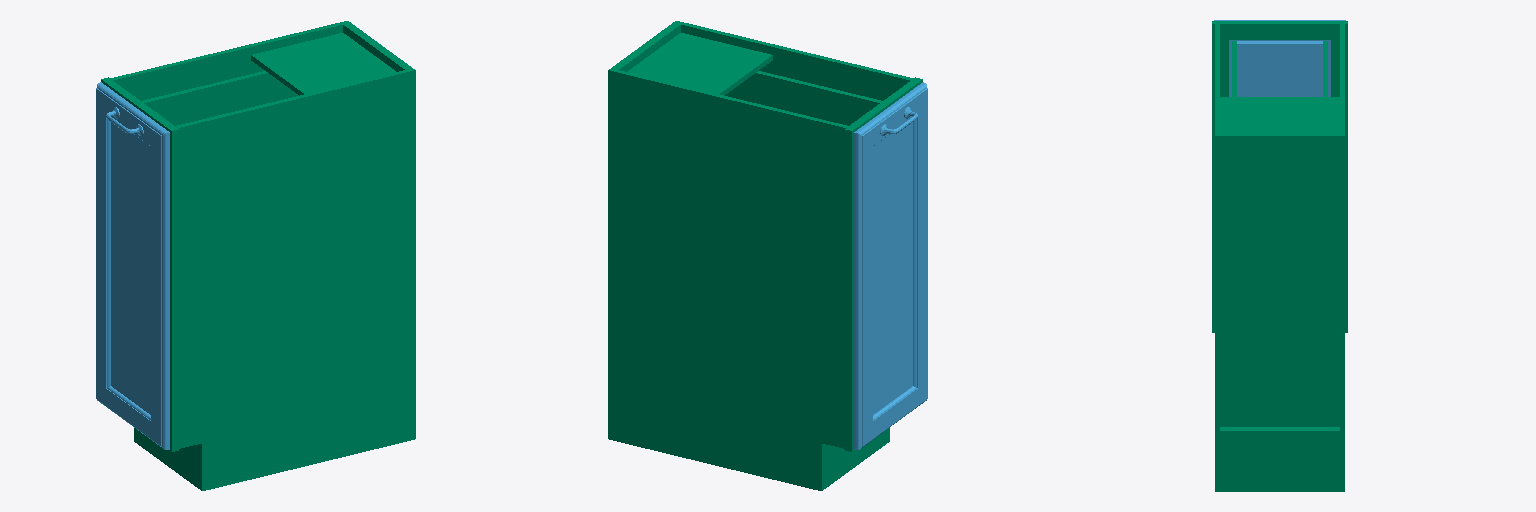
URDF robot description (partnet_198cbe57b01bad9dc59350d819542ec7):
<?xml version="1.0" ?>
<robot name="partnet_198cbe57b01bad9dc59350d819542ec7">
	<link name="base"/>
	<link name="link_0">
		<visual name="cabinet_door_surface-5">
			<origin xyz="0.2662146266598937 0.6346279978752136 -0.566615870134326"/>
			<geometry>
				<mesh filename="textured_objs/original-43.obj"/>
			</geometry>
		</visual>
		<visual name="cabinet_door_surface-5">
			<origin xyz="0.2662146266598937 0.6346279978752136 -0.566615870134326"/>
			<geometry>
				<mesh filename="textured_objs/original-52.obj"/>
			</geometry>
		</visual>
		<visual name="cabinet_door_surface-5">
			<origin xyz="0.2662146266598937 0.6346279978752136 -0.566615870134326"/>
			<geometry>
				<mesh filename="textured_objs/original-49.obj"/>
			</geometry>
		</visual>
		<visual name="cabinet_door_surface-5">
			<origin xyz="0.2662146266598937 0.6346279978752136 -0.566615870134326"/>
			<geometry>
				<mesh filename="textured_objs/original-42.obj"/>
			</geometry>
		</visual>
		<visual name="cabinet_door_surface-5">
			<origin xyz="0.2662146266598937 0.6346279978752136 -0.566615870134326"/>
			<geometry>
				<mesh filename="textured_objs/original-50.obj"/>
			</geometry>
		</visual>
		<visual name="cabinet_door_surface-5">
			<origin xyz="0.2662146266598937 0.6346279978752136 -0.566615870134326"/>
			<geometry>
				<mesh filename="textured_objs/original-45.obj"/>
			</geometry>
		</visual>
		<visual name="cabinet_door_surface-5">
			<origin xyz="0.2662146266598937 0.6346279978752136 -0.566615870134326"/>
			<geometry>
				<mesh filename="textured_objs/original-44.obj"/>
			</geometry>
		</visual>
		<visual name="cabinet_door_surface-5">
			<origin xyz="0.2662146266598937 0.6346279978752136 -0.566615870134326"/>
			<geometry>
				<mesh filename="textured_objs/original-48.obj"/>
			</geometry>
		</visual>
		<visual name="cabinet_door_surface-5">
			<origin xyz="0.2662146266598937 0.6346279978752136 -0.566615870134326"/>
			<geometry>
				<mesh filename="textured_objs/original-29.obj"/>
			</geometry>
		</visual>
		<visual name="cabinet_door_surface-5">
			<origin xyz="0.2662146266598937 0.6346279978752136 -0.566615870134326"/>
			<geometry>
				<mesh filename="textured_objs/original-47.obj"/>
			</geometry>
		</visual>
		<visual name="cabinet_door_surface-5">
			<origin xyz="0.2662146266598937 0.6346279978752136 -0.566615870134326"/>
			<geometry>
				<mesh filename="textured_objs/original-51.obj"/>
			</geometry>
		</visual>
		<visual name="handle-6">
			<origin xyz="0.2662146266598937 0.6346279978752136 -0.566615870134326"/>
			<geometry>
				<mesh filename="textured_objs/original-53.obj"/>
			</geometry>
		</visual>
		<collision>
			<origin xyz="0.2662146266598937 0.6346279978752136 -0.566615870134326"/>
			<geometry>
				<mesh filename="textured_objs/original-43.obj"/>
			</geometry>
		</collision>
		<collision>
			<origin xyz="0.2662146266598937 0.6346279978752136 -0.566615870134326"/>
			<geometry>
				<mesh filename="textured_objs/original-52.obj"/>
			</geometry>
		</collision>
		<collision>
			<origin xyz="0.2662146266598937 0.6346279978752136 -0.566615870134326"/>
			<geometry>
				<mesh filename="textured_objs/original-49.obj"/>
			</geometry>
		</collision>
		<collision>
			<origin xyz="0.2662146266598937 0.6346279978752136 -0.566615870134326"/>
			<geometry>
				<mesh filename="textured_objs/original-42.obj"/>
			</geometry>
		</collision>
		<collision>
			<origin xyz="0.2662146266598937 0.6346279978752136 -0.566615870134326"/>
			<geometry>
				<mesh filename="textured_objs/original-50.obj"/>
			</geometry>
		</collision>
		<collision>
			<origin xyz="0.2662146266598937 0.6346279978752136 -0.566615870134326"/>
			<geometry>
				<mesh filename="textured_objs/original-45.obj"/>
			</geometry>
		</collision>
		<collision>
			<origin xyz="0.2662146266598937 0.6346279978752136 -0.566615870134326"/>
			<geometry>
				<mesh filename="textured_objs/original-44.obj"/>
			</geometry>
		</collision>
		<collision>
			<origin xyz="0.2662146266598937 0.6346279978752136 -0.566615870134326"/>
			<geometry>
				<mesh filename="textured_objs/original-48.obj"/>
			</geometry>
		</collision>
		<collision>
			<origin xyz="0.2662146266598937 0.6346279978752136 -0.566615870134326"/>
			<geometry>
				<mesh filename="textured_objs/original-29.obj"/>
			</geometry>
		</collision>
		<collision>
			<origin xyz="0.2662146266598937 0.6346279978752136 -0.566615870134326"/>
			<geometry>
				<mesh filename="textured_objs/original-47.obj"/>
			</geometry>
		</collision>
		<collision>
			<origin xyz="0.2662146266598937 0.6346279978752136 -0.566615870134326"/>
			<geometry>
				<mesh filename="textured_objs/original-51.obj"/>
			</geometry>
		</collision>
		<collision>
			<origin xyz="0.2662146266598937 0.6346279978752136 -0.566615870134326"/>
			<geometry>
				<mesh filename="textured_objs/original-53.obj"/>
			</geometry>
		</collision>
	</link>
	<joint name="joint_0" type="revolute">
		<origin xyz="-0.2662146266598937 -0.6346279978752136 0.566615870134326"/>
		<axis xyz="0 -1 0"/>
		<child link="link_0"/>
		<parent link="link_1"/>
		<limit lower="0.0" upper="1.5707963267948966"/>
	</joint>
	<link name="link_1">
		<visual name="shelf-13">
			<origin xyz="0 0 0"/>
			<geometry>
				<mesh filename="textured_objs/original-23.obj"/>
			</geometry>
		</visual>
		<visual name="shelf-14">
			<origin xyz="0 0 0"/>
			<geometry>
				<mesh filename="textured_objs/original-38.obj"/>
			</geometry>
		</visual>
		<visual name="shelf-15">
			<origin xyz="0 0 0"/>
			<geometry>
				<mesh filename="textured_objs/original-34.obj"/>
			</geometry>
		</visual>
		<visual name="base_side_panel-8">
			<origin xyz="0 0 0"/>
			<geometry>
				<mesh filename="textured_objs/original-16.obj"/>
			</geometry>
		</visual>
		<visual name="base_side_panel-9">
			<origin xyz="0 0 0"/>
			<geometry>
				<mesh filename="textured_objs/original-17.obj"/>
			</geometry>
		</visual>
		<visual name="base_side_panel-10">
			<origin xyz="0 0 0"/>
			<geometry>
				<mesh filename="textured_objs/original-12.obj"/>
			</geometry>
		</visual>
		<visual name="base_side_panel-11">
			<origin xyz="0 0 0"/>
			<geometry>
				<mesh filename="textured_objs/original-18.obj"/>
			</geometry>
		</visual>
		<visual name="back_panel-20">
			<origin xyz="0 0 0"/>
			<geometry>
				<mesh filename="textured_objs/original-30.obj"/>
			</geometry>
		</visual>
		<visual name="back_panel-20">
			<origin xyz="0 0 0"/>
			<geometry>
				<mesh filename="textured_objs/original-5.obj"/>
			</geometry>
		</visual>
		<visual name="bottom_panel-21">
			<origin xyz="0 0 0"/>
			<geometry>
				<mesh filename="textured_objs/original-2.obj"/>
			</geometry>
		</visual>
		<visual name="vertical_side_panel-22">
			<origin xyz="0 0 0"/>
			<geometry>
				<mesh filename="textured_objs/original-11.obj"/>
			</geometry>
		</visual>
		<visual name="vertical_side_panel-22">
			<origin xyz="0 0 0"/>
			<geometry>
				<mesh filename="textured_objs/original-10.obj"/>
			</geometry>
		</visual>
		<visual name="vertical_side_panel-23">
			<origin xyz="0 0 0"/>
			<geometry>
				<mesh filename="textured_objs/original-15.obj"/>
			</geometry>
		</visual>
		<visual name="vertical_side_panel-23">
			<origin xyz="0 0 0"/>
			<geometry>
				<mesh filename="textured_objs/original-14.obj"/>
			</geometry>
		</visual>
		<visual name="other_leaf-25">
			<origin xyz="0 0 0"/>
			<geometry>
				<mesh filename="textured_objs/original-54.obj"/>
			</geometry>
		</visual>
		<visual name="frame_horizontal_bar-26">
			<origin xyz="0 0 0"/>
			<geometry>
				<mesh filename="textured_objs/original-28.obj"/>
			</geometry>
		</visual>
		<visual name="frame_horizontal_bar-27">
			<origin xyz="0 0 0"/>
			<geometry>
				<mesh filename="textured_objs/original-32.obj"/>
			</geometry>
		</visual>
		<visual name="frame_horizontal_bar-28">
			<origin xyz="0 0 0"/>
			<geometry>
				<mesh filename="textured_objs/original-36.obj"/>
			</geometry>
		</visual>
		<visual name="frame_horizontal_bar-29">
			<origin xyz="0 0 0"/>
			<geometry>
				<mesh filename="textured_objs/original-22.obj"/>
			</geometry>
		</visual>
		<visual name="frame_horizontal_bar-30">
			<origin xyz="0 0 0"/>
			<geometry>
				<mesh filename="textured_objs/original-40.obj"/>
			</geometry>
		</visual>
		<visual name="frame_horizontal_bar-31">
			<origin xyz="0 0 0"/>
			<geometry>
				<mesh filename="textured_objs/original-37.obj"/>
			</geometry>
		</visual>
		<visual name="frame_horizontal_bar-32">
			<origin xyz="0 0 0"/>
			<geometry>
				<mesh filename="textured_objs/original-33.obj"/>
			</geometry>
		</visual>
		<visual name="frame_horizontal_bar-33">
			<origin xyz="0 0 0"/>
			<geometry>
				<mesh filename="textured_objs/original-39.obj"/>
			</geometry>
		</visual>
		<visual name="frame_horizontal_bar-34">
			<origin xyz="0 0 0"/>
			<geometry>
				<mesh filename="textured_objs/original-8.obj"/>
			</geometry>
		</visual>
		<visual name="frame_horizontal_bar-35">
			<origin xyz="0 0 0"/>
			<geometry>
				<mesh filename="textured_objs/original-4.obj"/>
			</geometry>
		</visual>
		<visual name="frame_horizontal_bar-36">
			<origin xyz="0 0 0"/>
			<geometry>
				<mesh filename="textured_objs/original-6.obj"/>
			</geometry>
		</visual>
		<visual name="frame_vertical_bar-37">
			<origin xyz="0 0 0"/>
			<geometry>
				<mesh filename="textured_objs/original-7.obj"/>
			</geometry>
		</visual>
		<visual name="frame_vertical_bar-38">
			<origin xyz="0 0 0"/>
			<geometry>
				<mesh filename="textured_objs/original-3.obj"/>
			</geometry>
		</visual>
		<visual name="frame_vertical_bar-39">
			<origin xyz="0 0 0"/>
			<geometry>
				<mesh filename="textured_objs/original-24.obj"/>
			</geometry>
		</visual>
		<visual name="frame_vertical_bar-40">
			<origin xyz="0 0 0"/>
			<geometry>
				<mesh filename="textured_objs/original-27.obj"/>
			</geometry>
		</visual>
		<visual name="frame_vertical_bar-41">
			<origin xyz="0 0 0"/>
			<geometry>
				<mesh filename="textured_objs/original-26.obj"/>
			</geometry>
		</visual>
		<visual name="frame_vertical_bar-42">
			<origin xyz="0 0 0"/>
			<geometry>
				<mesh filename="textured_objs/original-25.obj"/>
			</geometry>
		</visual>
		<visual name="top_panel-43">
			<origin xyz="0 0 0"/>
			<geometry>
				<mesh filename="textured_objs/original-19.obj"/>
			</geometry>
		</visual>
		<collision>
			<origin xyz="0 0 0"/>
			<geometry>
				<mesh filename="textured_objs/original-23.obj"/>
			</geometry>
		</collision>
		<collision>
			<origin xyz="0 0 0"/>
			<geometry>
				<mesh filename="textured_objs/original-38.obj"/>
			</geometry>
		</collision>
		<collision>
			<origin xyz="0 0 0"/>
			<geometry>
				<mesh filename="textured_objs/original-34.obj"/>
			</geometry>
		</collision>
		<collision>
			<origin xyz="0 0 0"/>
			<geometry>
				<mesh filename="textured_objs/original-16.obj"/>
			</geometry>
		</collision>
		<collision>
			<origin xyz="0 0 0"/>
			<geometry>
				<mesh filename="textured_objs/original-17.obj"/>
			</geometry>
		</collision>
		<collision>
			<origin xyz="0 0 0"/>
			<geometry>
				<mesh filename="textured_objs/original-12.obj"/>
			</geometry>
		</collision>
		<collision>
			<origin xyz="0 0 0"/>
			<geometry>
				<mesh filename="textured_objs/original-18.obj"/>
			</geometry>
		</collision>
		<collision>
			<origin xyz="0 0 0"/>
			<geometry>
				<mesh filename="textured_objs/original-30.obj"/>
			</geometry>
		</collision>
		<collision>
			<origin xyz="0 0 0"/>
			<geometry>
				<mesh filename="textured_objs/original-5.obj"/>
			</geometry>
		</collision>
		<collision>
			<origin xyz="0 0 0"/>
			<geometry>
				<mesh filename="textured_objs/original-2.obj"/>
			</geometry>
		</collision>
		<collision>
			<origin xyz="0 0 0"/>
			<geometry>
				<mesh filename="textured_objs/original-11.obj"/>
			</geometry>
		</collision>
		<collision>
			<origin xyz="0 0 0"/>
			<geometry>
				<mesh filename="textured_objs/original-10.obj"/>
			</geometry>
		</collision>
		<collision>
			<origin xyz="0 0 0"/>
			<geometry>
				<mesh filename="textured_objs/original-15.obj"/>
			</geometry>
		</collision>
		<collision>
			<origin xyz="0 0 0"/>
			<geometry>
				<mesh filename="textured_objs/original-14.obj"/>
			</geometry>
		</collision>
		<collision>
			<origin xyz="0 0 0"/>
			<geometry>
				<mesh filename="textured_objs/original-54.obj"/>
			</geometry>
		</collision>
		<collision>
			<origin xyz="0 0 0"/>
			<geometry>
				<mesh filename="textured_objs/original-28.obj"/>
			</geometry>
		</collision>
		<collision>
			<origin xyz="0 0 0"/>
			<geometry>
				<mesh filename="textured_objs/original-32.obj"/>
			</geometry>
		</collision>
		<collision>
			<origin xyz="0 0 0"/>
			<geometry>
				<mesh filename="textured_objs/original-36.obj"/>
			</geometry>
		</collision>
		<collision>
			<origin xyz="0 0 0"/>
			<geometry>
				<mesh filename="textured_objs/original-22.obj"/>
			</geometry>
		</collision>
		<collision>
			<origin xyz="0 0 0"/>
			<geometry>
				<mesh filename="textured_objs/original-40.obj"/>
			</geometry>
		</collision>
		<collision>
			<origin xyz="0 0 0"/>
			<geometry>
				<mesh filename="textured_objs/original-37.obj"/>
			</geometry>
		</collision>
		<collision>
			<origin xyz="0 0 0"/>
			<geometry>
				<mesh filename="textured_objs/original-33.obj"/>
			</geometry>
		</collision>
		<collision>
			<origin xyz="0 0 0"/>
			<geometry>
				<mesh filename="textured_objs/original-39.obj"/>
			</geometry>
		</collision>
		<collision>
			<origin xyz="0 0 0"/>
			<geometry>
				<mesh filename="textured_objs/original-8.obj"/>
			</geometry>
		</collision>
		<collision>
			<origin xyz="0 0 0"/>
			<geometry>
				<mesh filename="textured_objs/original-4.obj"/>
			</geometry>
		</collision>
		<collision>
			<origin xyz="0 0 0"/>
			<geometry>
				<mesh filename="textured_objs/original-6.obj"/>
			</geometry>
		</collision>
		<collision>
			<origin xyz="0 0 0"/>
			<geometry>
				<mesh filename="textured_objs/original-7.obj"/>
			</geometry>
		</collision>
		<collision>
			<origin xyz="0 0 0"/>
			<geometry>
				<mesh filename="textured_objs/original-3.obj"/>
			</geometry>
		</collision>
		<collision>
			<origin xyz="0 0 0"/>
			<geometry>
				<mesh filename="textured_objs/original-24.obj"/>
			</geometry>
		</collision>
		<collision>
			<origin xyz="0 0 0"/>
			<geometry>
				<mesh filename="textured_objs/original-27.obj"/>
			</geometry>
		</collision>
		<collision>
			<origin xyz="0 0 0"/>
			<geometry>
				<mesh filename="textured_objs/original-26.obj"/>
			</geometry>
		</collision>
		<collision>
			<origin xyz="0 0 0"/>
			<geometry>
				<mesh filename="textured_objs/original-25.obj"/>
			</geometry>
		</collision>
		<collision>
			<origin xyz="0 0 0"/>
			<geometry>
				<mesh filename="textured_objs/original-19.obj"/>
			</geometry>
		</collision>
	</link>
	<joint name="joint_1" type="fixed">
		<origin rpy="1.570796326794897 0 -1.570796326794897" xyz="0 0 0"/>
		<child link="link_1"/>
		<parent link="base"/>
	</joint>
</robot>

--- What the picture shows (computed from the rendered views, not written in the file) ---
Views: 3 orthographic renders of the robot side by side, from view 1: azimuth 30°, elevation 25°; view 2: azimuth 150°, elevation 25°; view 3: azimuth 270°, elevation 25°.
Model partnet_198cbe57b01bad9dc59350d819542ec7 with 3 links and 2 joints (1 revolute, 1 fixed), rooted at base, posed every joint at zero.
Links seen in each view (by area): view 1: link_1, link_0; view 2: link_1, link_0; view 3: link_1, link_0.
Boxes of the visible links, x1,y1,x2,y2 form: link_1: (101,21,415,490); link_0: (96,82,169,449); link_1: (608,21,922,490); link_0: (854,82,927,449); link_1: (1212,21,1347,491); link_0: (1214,20,1345,96).
Size in the robot's own frame: 1.23 by 0.5656 by 1.63 metres.
45 mesh visuals loaded from 45 distinct referenced files (45 OBJ).
